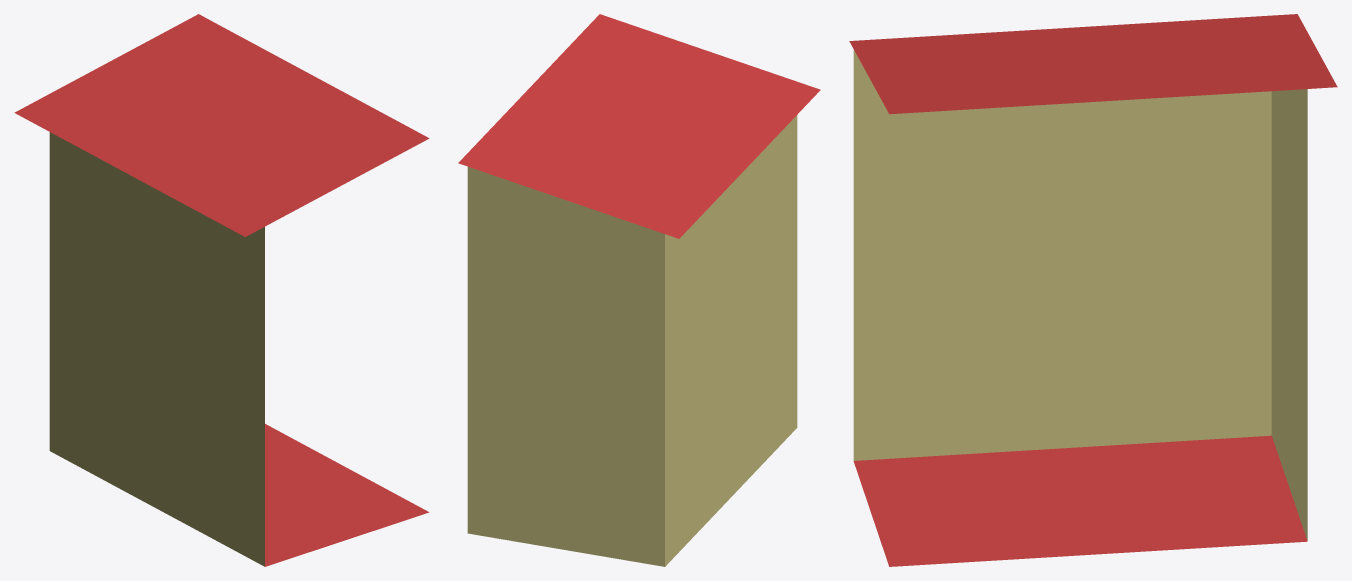
3 renders of one model, left to right at view 1: azimuth 30°, elevation 25°; view 2: azimuth 150°, elevation 25°; view 3: azimuth 270°, elevation 25°, orthographic. The views are drawn at different scales.
Size of the model in its own units: 5.67 by 8.03 by 8.21.
